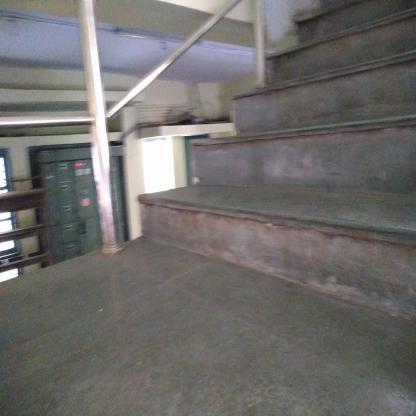stairs: (293, 10, 416, 318)
